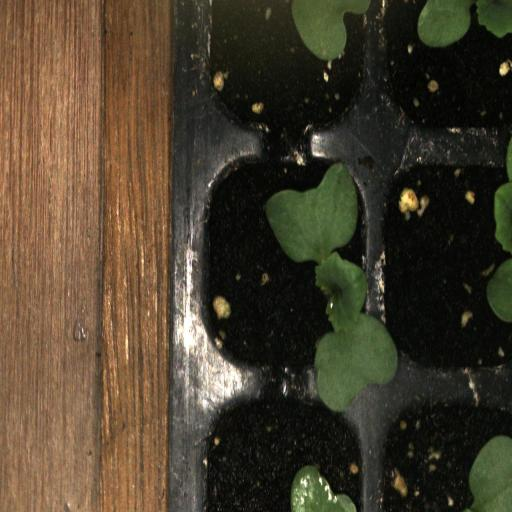Folha: (289, 0, 374, 62), (487, 144, 512, 322)
Germinacao: (194, 148, 372, 382)
